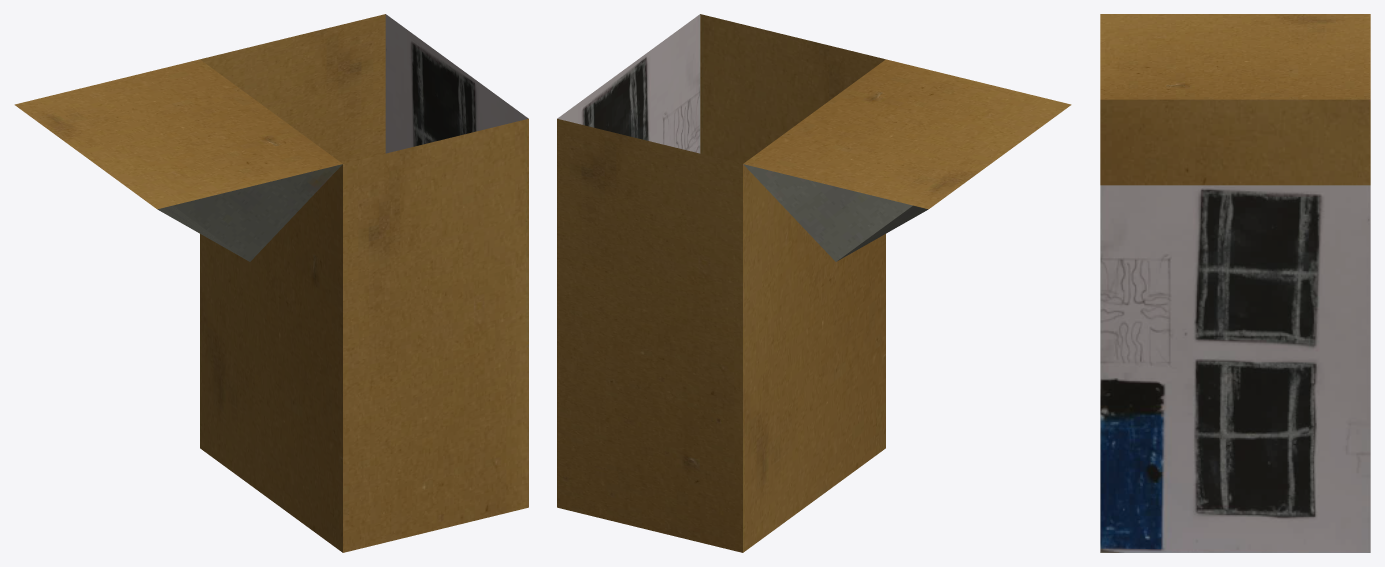
3 renders of one model, left to right at view 1: azimuth 30°, elevation 25°; view 2: azimuth 150°, elevation 25°; view 3: azimuth 270°, elevation 25°, orthographic. The views are drawn at different scales.
Visible parts, largest first — view 1: Cube, Cube.002, Cube.003; view 2: Cube, Cube.002, Cube.003; view 3: Cube, Cube.003, Cube.002.
Boxes of the visible parts, <box> form: Cube: <box>200,118,528,552</box>; Cube.002: <box>14,59,342,261</box>; Cube.003: <box>200,14,528,163</box>; Cube: <box>557,118,885,552</box>; Cube.002: <box>743,59,1071,261</box>; Cube.003: <box>557,14,885,163</box>; Cube: <box>1100,185,1370,552</box>; Cube.003: <box>1100,99,1370,185</box>; Cube.002: <box>1100,14,1370,99</box>.
Size of the model in its own units: 15 by 15 by 10.
Materials: 1 (1 with a texture image).
